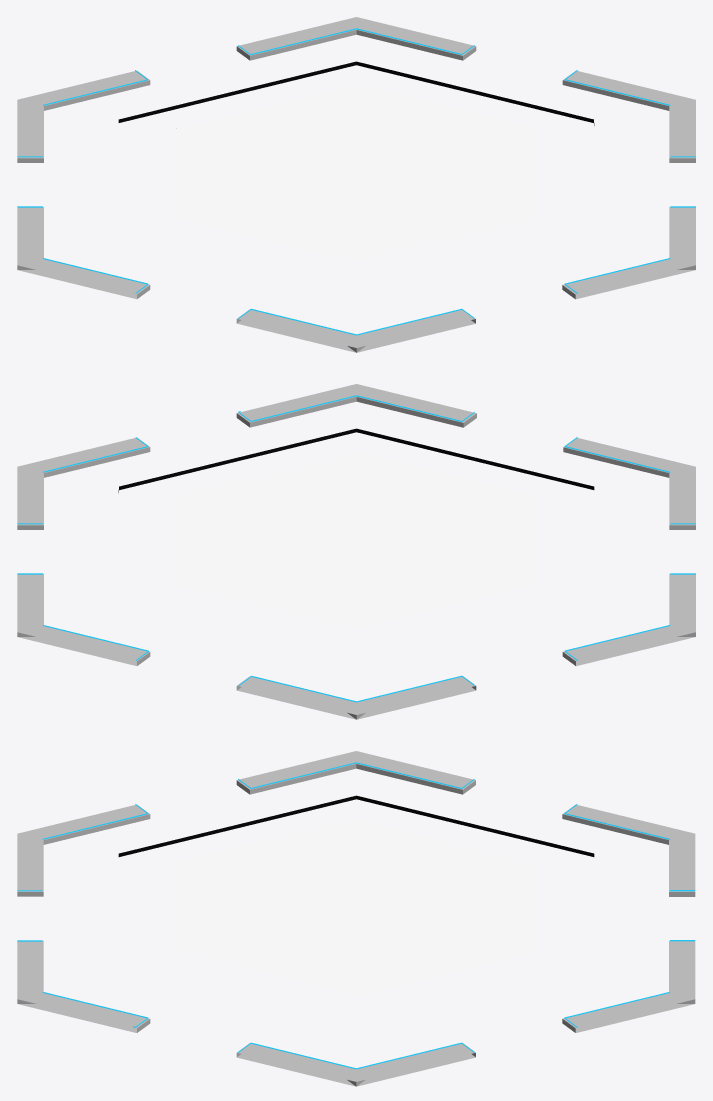
File: Teto_Monitoramento_SegundoAndar.gltf
3 views of the same model, one above another, from view 1: azimuth 30°, elevation 25°; view 2: azimuth 150°, elevation 25°; view 3: azimuth 270°, elevation 25° (orthographic).
Visible parts, largest first — view 1: TetoSimu.007; view 2: TetoSimu.007; view 3: TetoSimu.007.
Part boxes in pixels (box(x1,y1,x2,y2)): TetoSimu.007: box(17, 17, 695, 352); TetoSimu.007: box(17, 384, 695, 719); TetoSimu.007: box(17, 751, 695, 1086).
Size of the model in its own units: 29.81 by 0.5858 by 25.84.
Materials: 3 (1 with a texture image).
